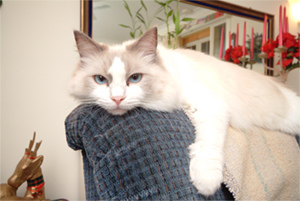cat: (69, 25, 300, 197)
